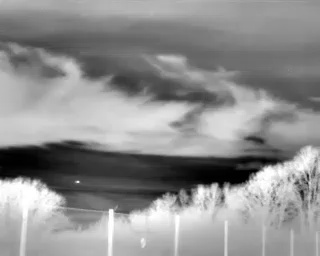HELICOPTER: (73, 177, 84, 188)
